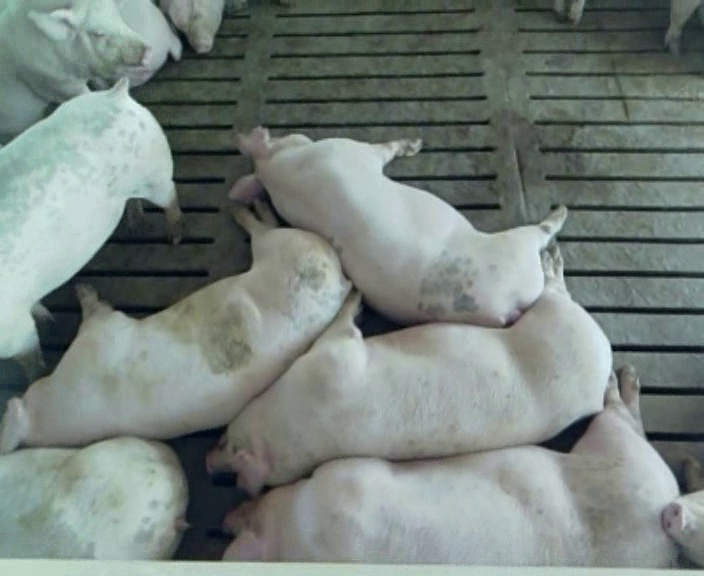pig: (207, 246, 610, 493), (0, 199, 350, 451), (225, 375, 678, 566), (231, 127, 566, 325), (0, 80, 179, 384), (0, 437, 187, 557), (0, 3, 150, 140), (662, 456, 703, 566), (160, 1, 223, 53)
